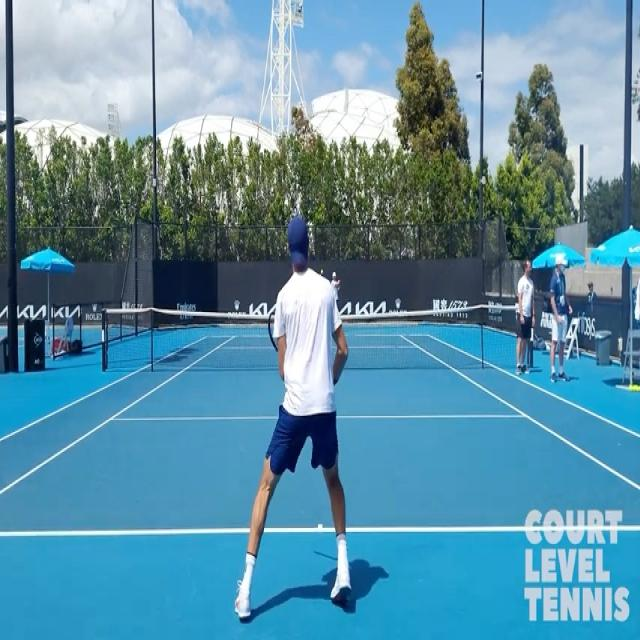ready-position: (240, 210, 366, 616)
